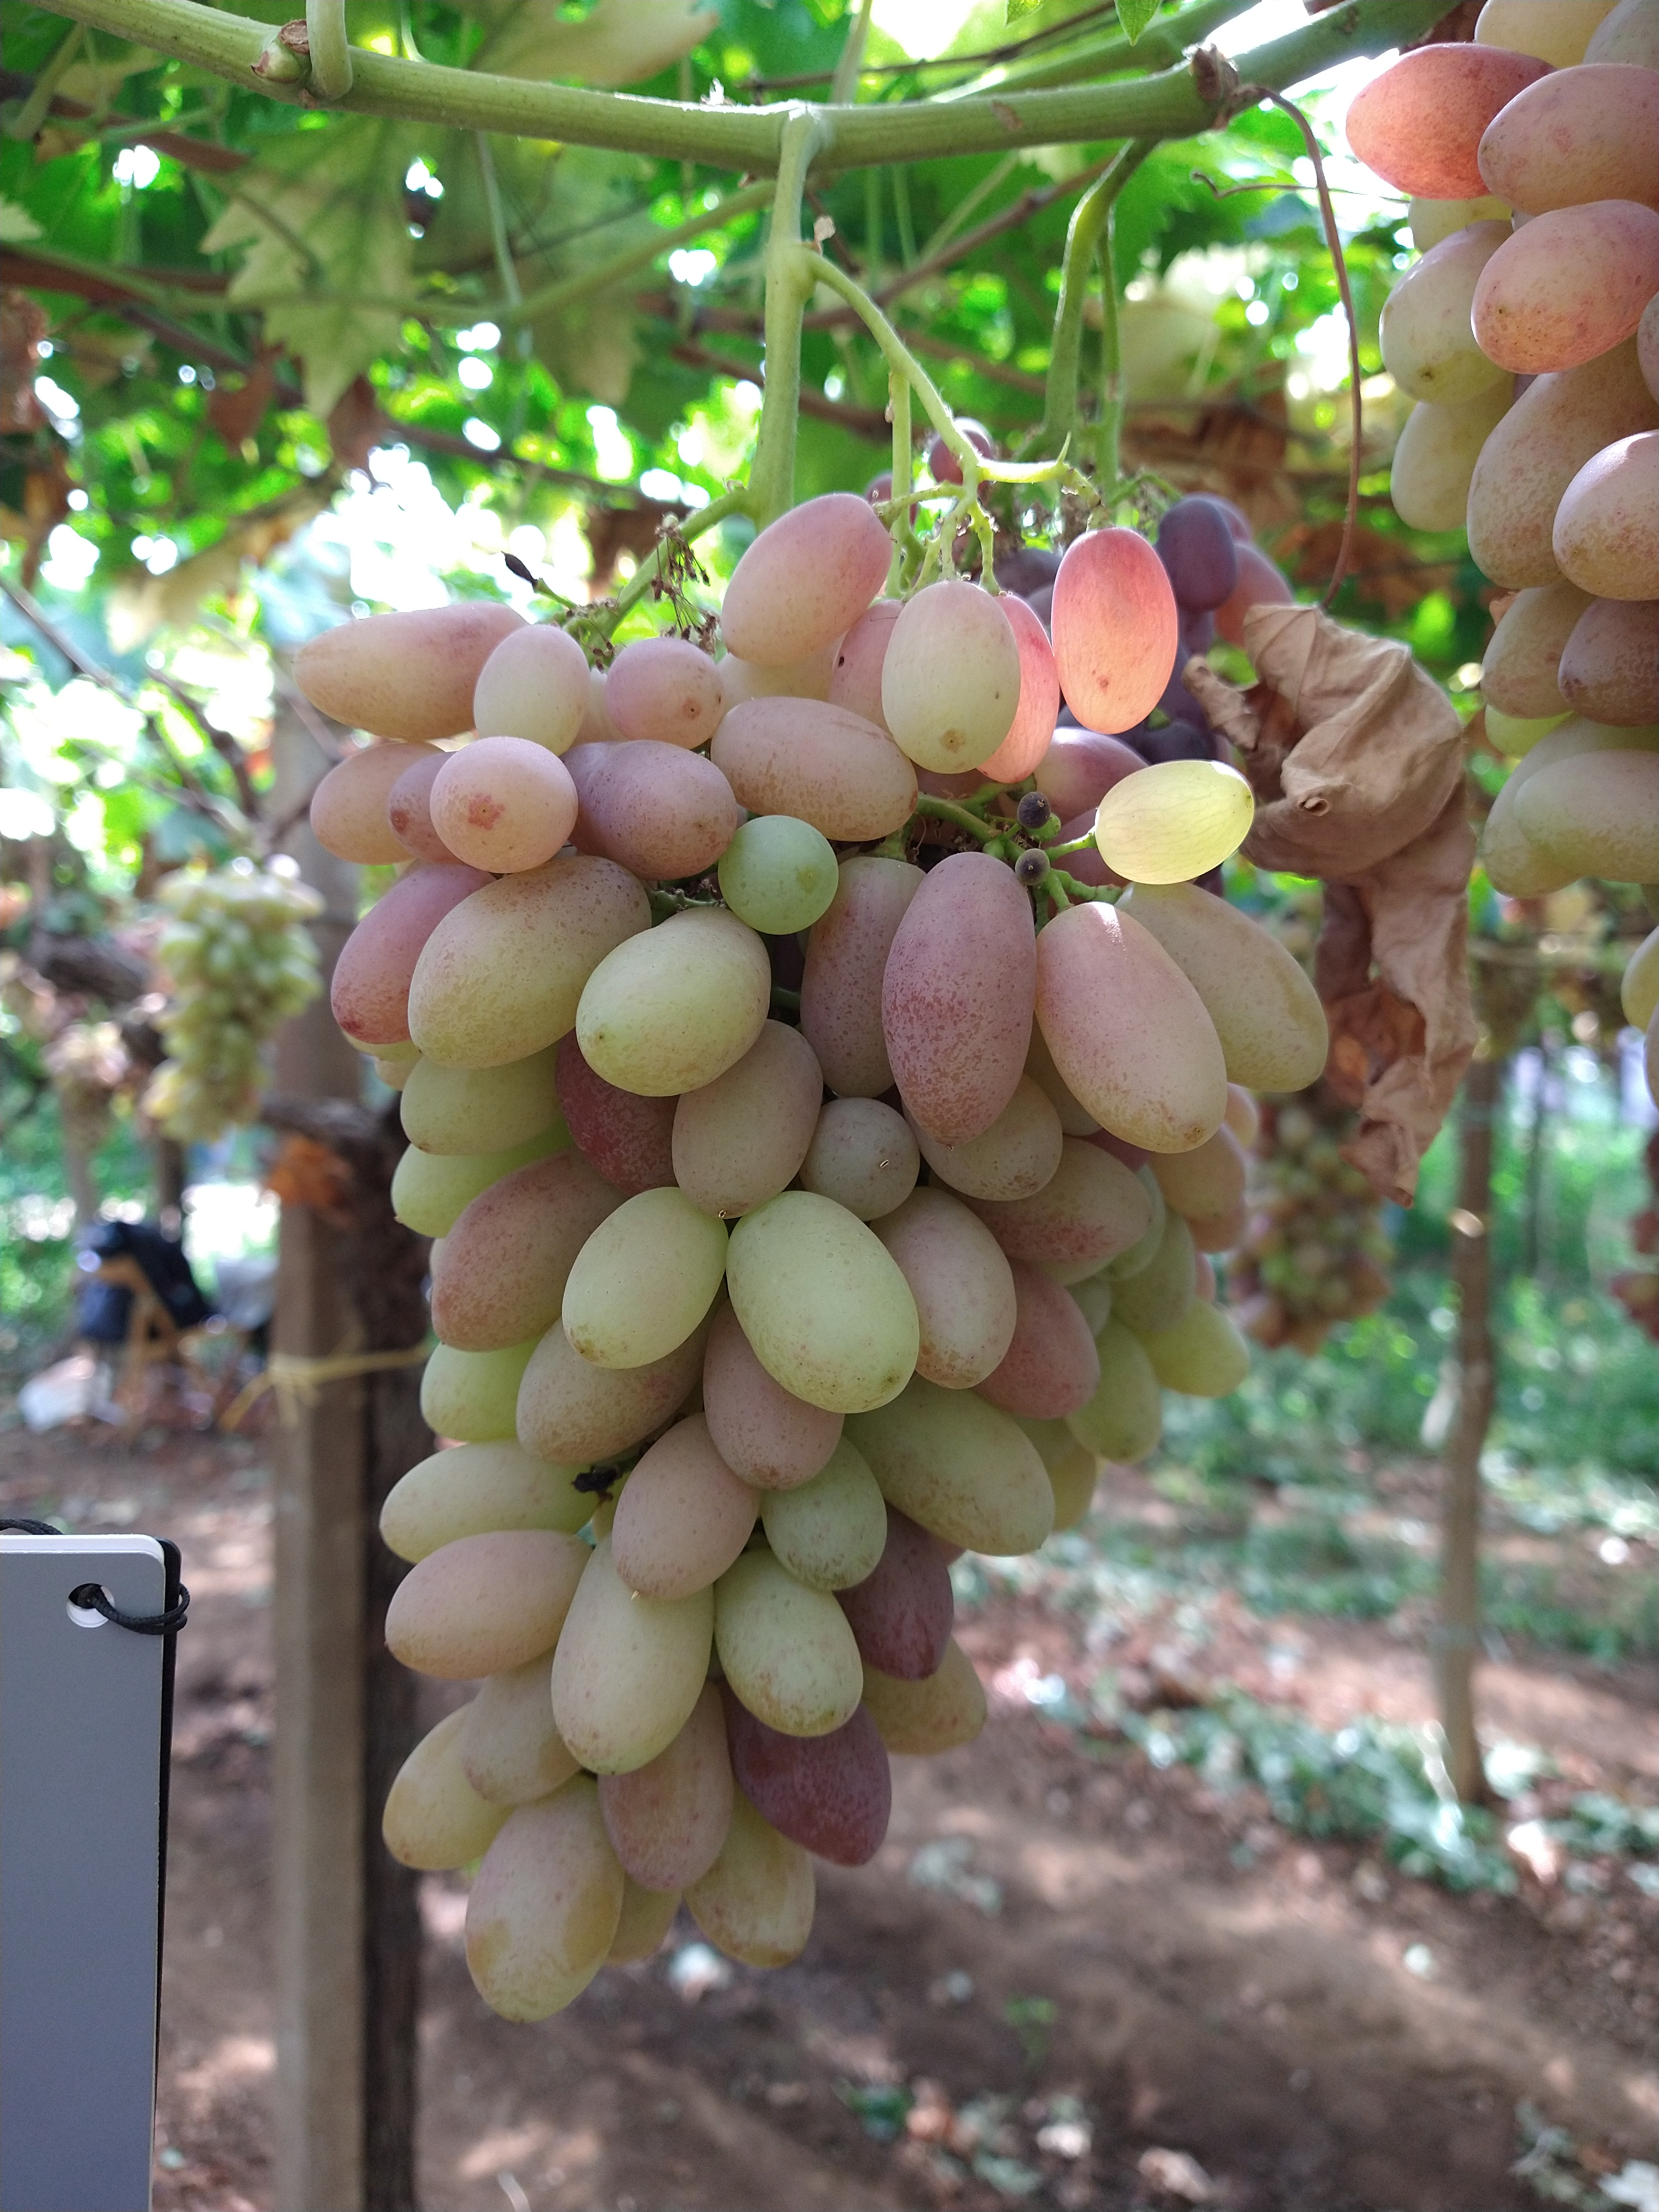acino: (406, 855, 650, 1071), (1035, 899, 1227, 1157), (880, 848, 1039, 1153), (727, 1190, 922, 1416), (465, 1782, 624, 2027), (1157, 881, 1331, 1096), (575, 909, 772, 1097), (716, 491, 892, 678), (708, 695, 920, 841), (561, 1184, 728, 1369), (669, 1021, 823, 1219), (293, 604, 518, 738), (800, 857, 925, 1096), (547, 1594, 709, 1778), (382, 1526, 570, 1681), (331, 862, 488, 1047), (889, 1388, 1056, 1557), (880, 580, 1021, 779), (1049, 526, 1182, 737), (432, 1157, 568, 1352), (885, 1193, 1019, 1390), (516, 1331, 704, 1470), (380, 1446, 598, 1566), (701, 1320, 847, 1494), (612, 1447, 763, 1604), (716, 1576, 864, 1737), (978, 1137, 1157, 1266), (573, 738, 737, 880), (1089, 756, 1258, 887), (380, 1702, 507, 1872), (427, 737, 580, 876), (739, 1730, 894, 1867), (596, 1747, 735, 1897), (840, 1508, 957, 1681), (685, 1834, 819, 1968), (399, 1049, 563, 1153), (861, 1630, 990, 1757), (462, 1676, 582, 1808), (714, 812, 840, 937), (924, 1089, 1065, 1200), (474, 625, 592, 758), (803, 1096, 920, 1224), (762, 1480, 890, 1590), (1011, 1270, 1101, 1420), (605, 636, 723, 749), (310, 745, 403, 866), (418, 1346, 521, 1444), (389, 1155, 481, 1238)
